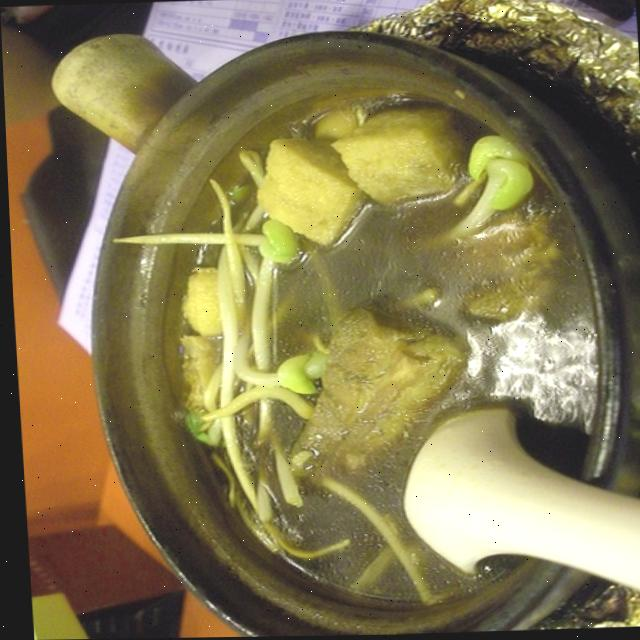汤锅炖物: (81, 30, 630, 633)
